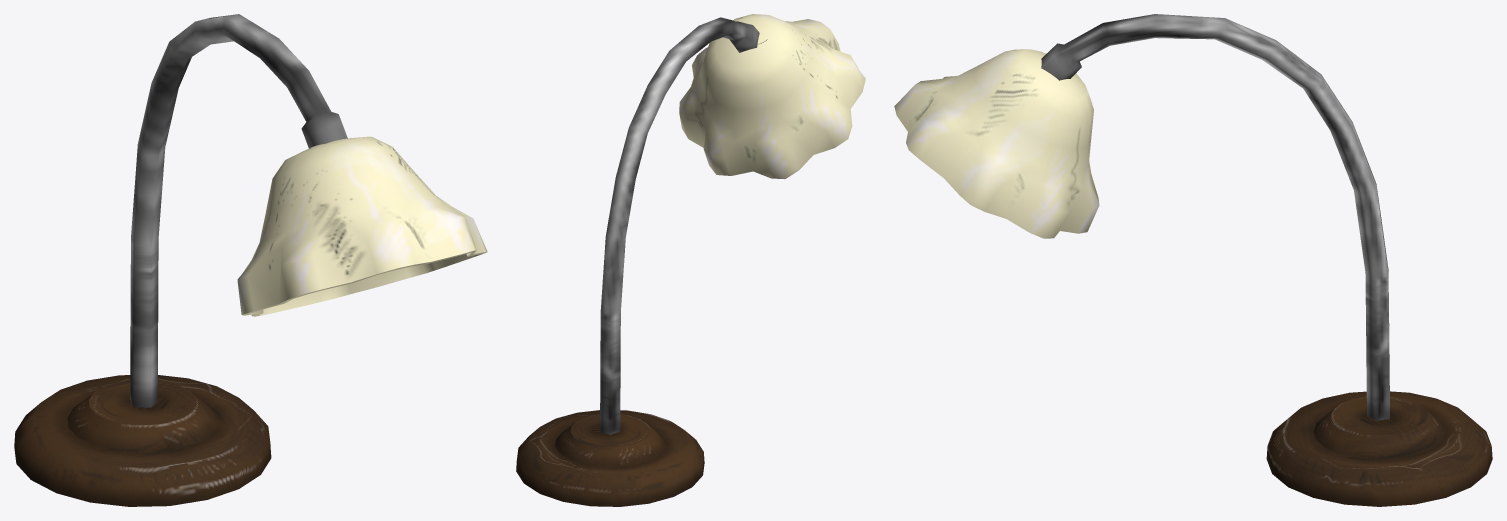
Rendered from lamp_bureau.fbx.
The picture shows the model from 3 angles, left to right: view 1: azimuth 30°, elevation 25°; view 2: azimuth 150°, elevation 25°; view 3: azimuth 270°, elevation 25°; orthographic projection. The views are drawn at different scales.
Visible parts, largest first — view 1: polySurface1760, polySurface11; view 2: polySurface1760, polySurface11; view 3: polySurface1760, polySurface11.
Part boxes in pixels (box(x1,y1,x2,y2)): polySurface1760: box(14, 14, 347, 506); polySurface11: box(237, 136, 487, 316); polySurface1760: box(516, 17, 759, 506); polySurface11: box(679, 14, 865, 179); polySurface1760: box(1041, 14, 1492, 506); polySurface11: box(894, 49, 1099, 238).
Size of the model in its own units: 19.91 by 42.81 by 52.48.
